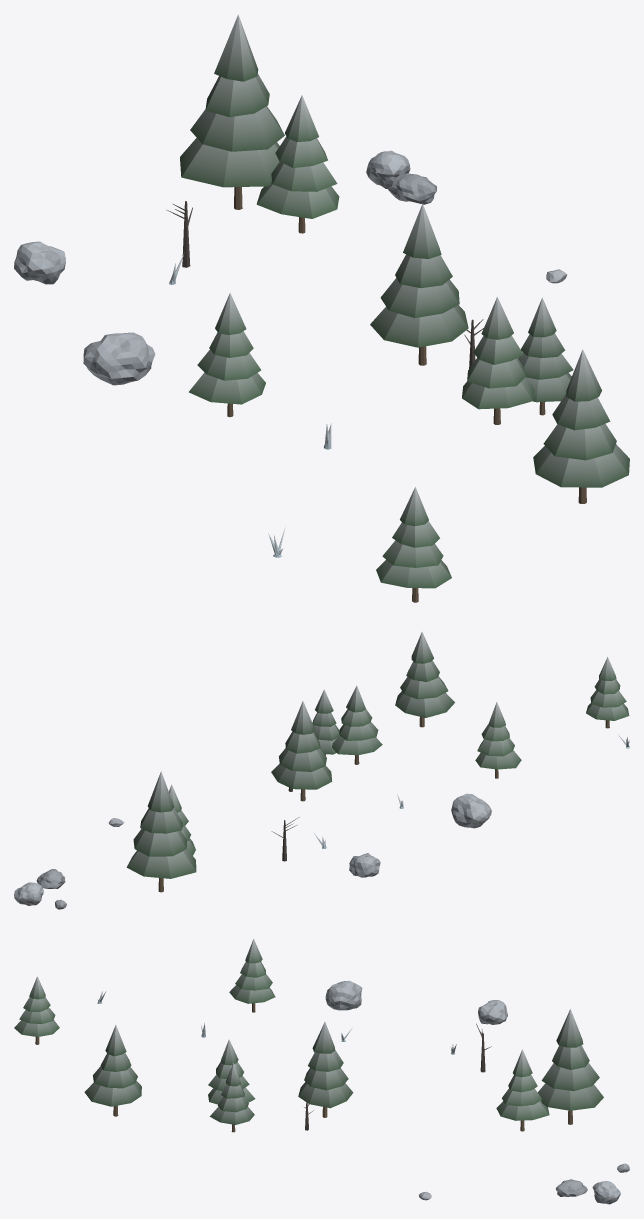
The model's file is frost_land_scatter_c22_10.glb.
3 renders of one model, top to bottom at view 1: azimuth 30°, elevation 25°; view 2: azimuth 150°, elevation 25°; view 3: azimuth 270°, elevation 25°, orthographic. The views are drawn at different scales.
Parts seen in each view (by area): view 1: frost_land_scatter_c22_10; view 2: frost_land_scatter_c22_10; view 3: frost_land_scatter_c22_10.
Part boxes in pixels (x1,y1,x2,y2): frost_land_scatter_c22_10: [14, 14, 629, 602]; frost_land_scatter_c22_10: [14, 631, 629, 909]; frost_land_scatter_c22_10: [14, 939, 629, 1204].
Bounding box in the file's own units: 49.83 × 20.03 × 79.04.
